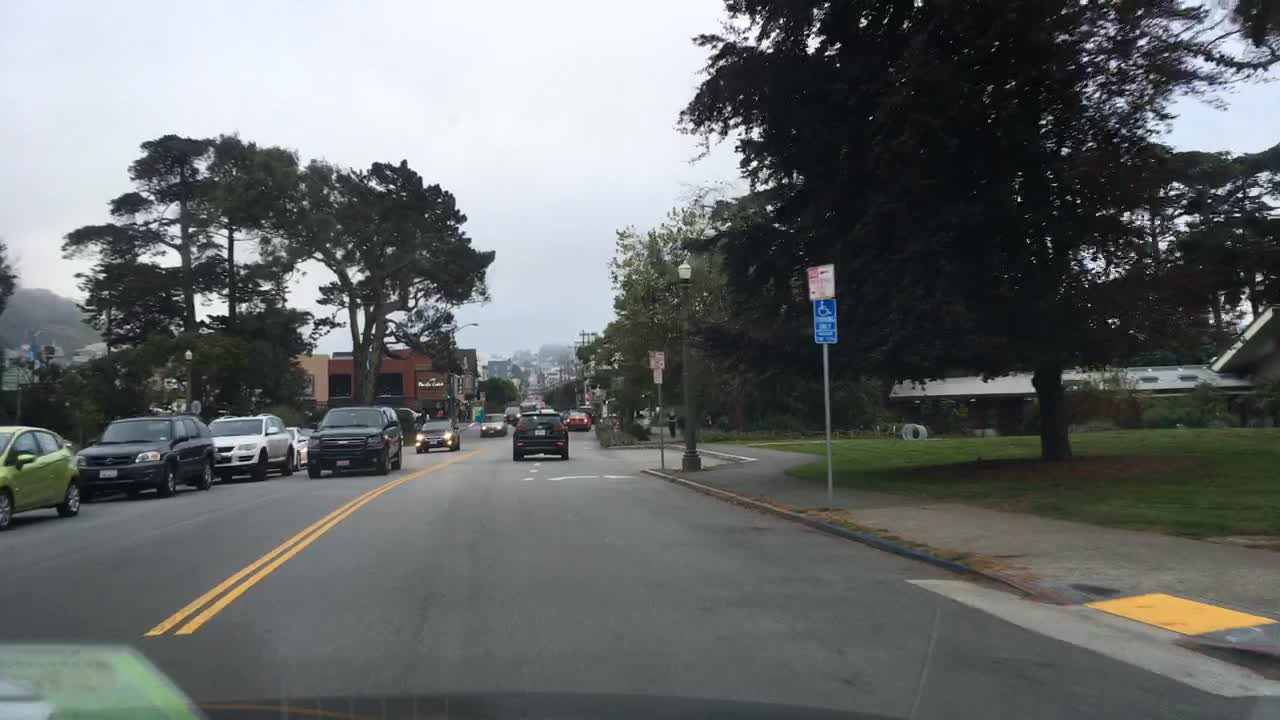car: (72, 412, 217, 501), (0, 422, 84, 531), (305, 401, 401, 481), (202, 412, 300, 482), (508, 415, 570, 462), (413, 422, 462, 454), (290, 425, 312, 469), (395, 400, 428, 428), (477, 410, 506, 440), (560, 408, 590, 430), (514, 400, 538, 412), (503, 403, 516, 425), (538, 403, 553, 415)
person: (411, 403, 428, 430), (665, 407, 678, 437)
traffic light: (444, 383, 452, 398)
traffic sign: (811, 299, 835, 342), (806, 265, 833, 300), (646, 349, 663, 368), (651, 369, 663, 383)
